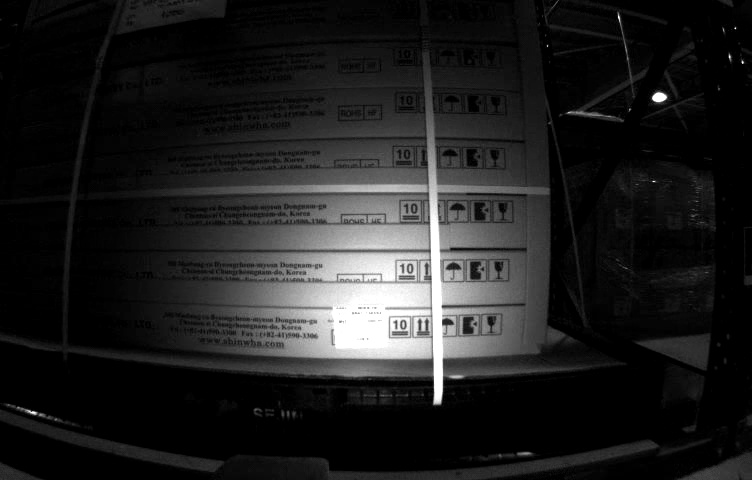True Barcode: (332, 306, 388, 349)
